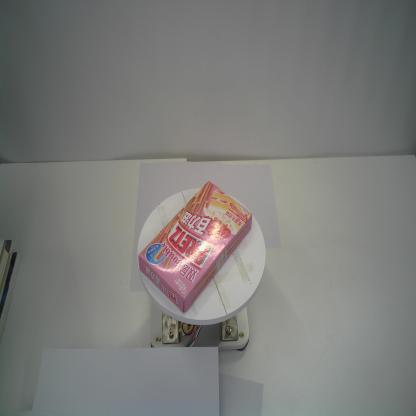Dessert: (138, 181, 253, 314)
